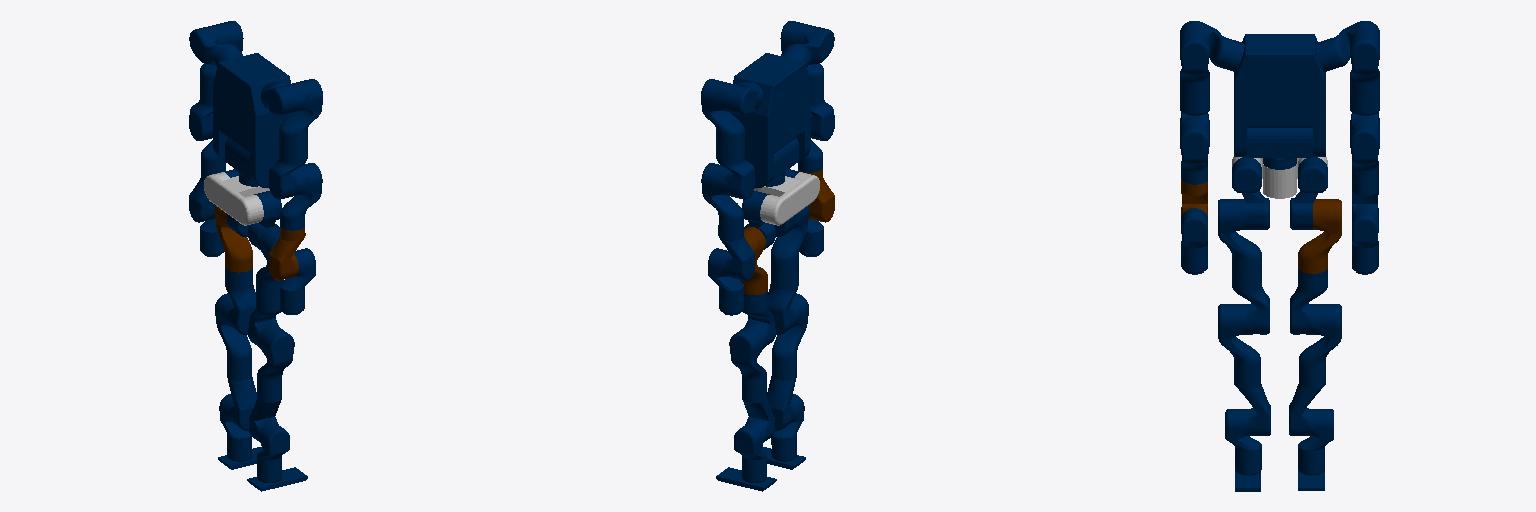
--- What the picture shows (computed from the rendered views, not written in the file) ---
3 views of the same robot in one strip: view 1: azimuth 30°, elevation 25°; view 2: azimuth 150°, elevation 25°; view 3: azimuth 270°, elevation 25° (orthographic).
Robot: HRO-c2-v1 — 31 links, 30 joints (30 revolute); root link torso_base_link; default pose: every joint at zero.
Visible links, largest first — view 1: torso_upper_link, torso_base_link, right_leg_link_4_5, right_arm_link_2_3, right_arm_link_4_5, left_leg_link_3_4, right_arm_link_3_4, left_leg_link_4_5, left_leg_link_5_6, left_leg_link_2_3, right_arm_link_5_6, left_arm_link_1_2 (+14 smaller); view 2: torso_upper_link, torso_base_link, left_leg_link_4_5, left_arm_link_2_3, left_arm_link_4_5, right_leg_link_3_4, left_arm_link_3_4, right_leg_link_4_5, right_leg_link_5_6, right_leg_link_2_3, left_arm_link_5_6, right_arm_link_1_2 (+14 smaller); view 3: torso_upper_link, torso_mid_link, right_leg_link_2_3, left_leg_link_2_3, right_leg_link_4_5, left_leg_link_4_5, left_arm_link_2_3, right_arm_link_2_3, left_leg_link_1_2, right_leg_link_1_2, left_arm_link_4_5, right_arm_link_4_5 (+17 smaller).
Link boxes in pixels (<box>): torso_upper_link: <box>213,53,293,187</box>; torso_base_link: <box>204,172,269,225</box>; right_leg_link_4_5: <box>257,324,294,391</box>; right_arm_link_2_3: <box>279,79,322,146</box>; right_arm_link_4_5: <box>280,163,322,230</box>; left_leg_link_3_4: <box>225,268,255,335</box>; right_arm_link_3_4: <box>268,141,307,199</box>; left_leg_link_4_5: <box>215,293,251,369</box>; left_leg_link_5_6: <box>227,366,256,430</box>; left_leg_link_2_3: <box>214,205,252,272</box>; right_arm_link_5_6: <box>269,227,305,280</box>; left_arm_link_1_2: <box>189,26,242,66</box>; torso_upper_link: <box>730,53,810,187</box>; torso_base_link: <box>754,172,819,225</box>; left_leg_link_4_5: <box>729,325,766,391</box>; left_arm_link_2_3: <box>701,79,744,147</box>; left_arm_link_4_5: <box>701,163,743,230</box>; right_leg_link_3_4: <box>768,268,798,335</box>; left_arm_link_3_4: <box>716,142,755,199</box>; right_leg_link_4_5: <box>772,293,808,369</box>; right_leg_link_5_6: <box>767,366,796,430</box>; right_leg_link_2_3: <box>771,205,809,271</box>; left_arm_link_5_6: <box>718,225,754,280</box>; right_arm_link_1_2: <box>781,26,834,66</box>; torso_upper_link: <box>1234,34,1325,156</box>; torso_mid_link: <box>1247,128,1312,169</box>; right_leg_link_2_3: <box>1218,199,1261,273</box>; left_leg_link_2_3: <box>1298,199,1341,273</box>; right_leg_link_4_5: <box>1218,304,1260,377</box>; left_leg_link_4_5: <box>1299,304,1341,377</box>; left_arm_link_2_3: <box>1350,29,1379,95</box>; right_arm_link_2_3: <box>1180,29,1209,95</box>; left_leg_link_1_2: <box>1290,157,1327,229</box>; right_leg_link_1_2: <box>1232,157,1269,229</box>; left_arm_link_4_5: <box>1350,119,1379,184</box>; right_arm_link_4_5: <box>1180,119,1209,184</box>.
Size in the robot's own frame: 0.2301 by 0.6078 by 1.49 metres.
31 mesh visuals loaded from 31 distinct referenced files (31 binary STL).

robot.urdf — HRO-c2-v1:
<?xml version="1.0" encoding="utf-8"?>
<!-- This URDF was automatically created by SolidWorks to URDF Exporter! Originally created by Stephen Brawner ([email redacted]) 
     Commit Version:   Build Version: 1.6.9172.22854
     For more information, please see http://wiki.ros.org/sw_urdf_exporter -->
<robot
  name="HRO-c2-v1">
  <link
    name="torso_base_link">
    <inertial>
      <origin
        xyz="-0.0470176847468226 2.49813725718533E-18 -0.0489556288399936"
        rpy="0 0 0" />
      <mass
        value="2.77762716357921" />
      <inertia
        ixx="0.00680573131801171"
        ixy="-1.09655201243339E-18"
        ixz="0.000377212178676998"
        iyy="0.0044128931197468"
        iyz="9.63312125049071E-20"
        izz="0.007730843281856" />
    </inertial>
    <visual>
      <origin
        xyz="0 0 0"
        rpy="0 0 0" />
      <geometry>
        <mesh
          filename="package://HRO-c2-v1/meshes/torso_base_link.STL" />
      </geometry>
      <material
        name="">
        <color
          rgba="0.752941176470588 0.752941176470588 0.752941176470588 1" />
      </material>
    </visual>
    <collision>
      <origin
        xyz="0 0 0"
        rpy="0 0 0" />
      <geometry>
        <mesh
          filename="package://HRO-c2-v1/meshes/torso_base_link.STL" />
      </geometry>
    </collision>
  </link>
  <link
    name="torso_mid_link">
    <inertial>
      <origin
        xyz="-0.00156357939065214 0.00715796001621209 0.0658836105821333"
        rpy="0 0 0" />
      <mass
        value="1.31668834620413" />
      <inertia
        ixx="0.00267382913699783"
        ixy="-1.5450639337885E-08"
        ixz="3.09538253606686E-06"
        iyy="0.0020105000349069"
        iyz="3.47184836178839E-10"
        izz="0.0030443100233419" />
    </inertial>
    <visual>
      <origin
        xyz="0 0 0"
        rpy="0 0 0" />
      <geometry>
        <mesh
          filename="package://HRO-c2-v1/meshes/torso_mid_link.STL" />
      </geometry>
      <material
        name="">
        <color
          rgba="0 0.180392156862745 0.352941176470588 1" />
      </material>
    </visual>
    <collision>
      <origin
        xyz="0 0 0"
        rpy="0 0 0" />
      <geometry>
        <mesh
          filename="package://HRO-c2-v1/meshes/torso_mid_link.STL" />
      </geometry>
    </collision>
  </link>
  <joint
    name="torso_pan_joint"
    type="revolute">
    <origin
      xyz="0 0 0"
      rpy="0 0 0" />
    <parent
      link="torso_base_link" />
    <child
      link="torso_mid_link" />
    <axis
      xyz="0 0 1" />
    <limit
      lower="0"
      upper="0"
      effort="0"
      velocity="0" />
  </joint>
  <link
    name="torso_upper_link">
    <inertial>
      <origin
        xyz="3.03576608295941E-18 0.149492492845789 0.000746189436203436"
        rpy="0 0 0" />
      <mass
        value="12.6305432689078" />
      <inertia
        ixx="0.175502383244543"
        ixy="3.20078326002922E-18"
        ixz="-7.05998652814009E-19"
        iyy="0.09988086580408"
        iyz="2.81443637384186E-17"
        izz="0.118925769103356" />
    </inertial>
    <visual>
      <origin
        xyz="0 0 0"
        rpy="0 0 0" />
      <geometry>
        <mesh
          filename="package://HRO-c2-v1/meshes/torso_upper_link.STL" />
      </geometry>
      <material
        name="">
        <color
          rgba="0 0.180392156862745 0.352941176470588 1" />
      </material>
    </visual>
    <collision>
      <origin
        xyz="0 0 0"
        rpy="0 0 0" />
      <geometry>
        <mesh
          filename="package://HRO-c2-v1/meshes/torso_upper_link.STL" />
      </geometry>
    </collision>
  </link>
  <joint
    name="torso_tilt_joint"
    type="revolute">
    <origin
      xyz="-0.002 0 0.09"
      rpy="1.5708 0 0" />
    <parent
      link="torso_mid_link" />
    <child
      link="torso_upper_link" />
    <axis
      xyz="0 0 1" />
    <limit
      lower="0"
      upper="0"
      effort="0"
      velocity="0" />
  </joint>
  <link
    name="right_arm_link_1_2">
    <inertial>
      <origin
        xyz="6.66228826226023E-05 0.00972182902507468 0.111510647715915"
        rpy="0 0 0" />
      <mass
        value="0.895979439094536" />
      <inertia
        ixx="0.00172631943125684"
        ixy="-3.09551137722688E-07"
        ixz="-6.82522919895056E-07"
        iyy="0.00167498130035058"
        iyz="-0.000284594014603556"
        izz="0.00118988088668159" />
    </inertial>
    <visual>
      <origin
        xyz="0 0 0"
        rpy="0 0 0" />
      <geometry>
        <mesh
          filename="package://HRO-c2-v1/meshes/right_arm_link_1_2.STL" />
      </geometry>
      <material
        name="">
        <color
          rgba="0 0.180392156862745 0.352941176470588 1" />
      </material>
    </visual>
    <collision>
      <origin
        xyz="0 0 0"
        rpy="0 0 0" />
      <geometry>
        <mesh
          filename="package://HRO-c2-v1/meshes/right_arm_link_1_2.STL" />
      </geometry>
    </collision>
  </link>
  <joint
    name="right_arm_joint_1"
    type="revolute">
    <origin
      xyz="0 0.25913 0.12256"
      rpy="0 0.34907 1.5708" />
    <parent
      link="torso_upper_link" />
    <child
      link="right_arm_link_1_2" />
    <axis
      xyz="0 0 1" />
    <limit
      lower="0"
      upper="0"
      effort="0"
      velocity="0" />
  </joint>
  <link
    name="right_arm_link_2_3">
    <inertial>
      <origin
        xyz="-6.90115387870227E-05 0.094105278868877 0.0187134412332429"
        rpy="0 0 0" />
      <mass
        value="0.939060504303801" />
      <inertia
        ixx="0.00214875863471669"
        ixy="9.44036791996364E-07"
        ixz="-4.60285255478099E-07"
        iyy="0.0013044349407048"
        iyz="0.000397355965561895"
        izz="0.00205972072677408" />
    </inertial>
    <visual>
      <origin
        xyz="0 0 0"
        rpy="0 0 0" />
      <geometry>
        <mesh
          filename="package://HRO-c2-v1/meshes/right_arm_link_2_3.STL" />
      </geometry>
      <material
        name="">
        <color
          rgba="0 0.180392156862745 0.352941176470588 1" />
      </material>
    </visual>
    <collision>
      <origin
        xyz="0 0 0"
        rpy="0 0 0" />
      <geometry>
        <mesh
          filename="package://HRO-c2-v1/meshes/right_arm_link_2_3.STL" />
      </geometry>
    </collision>
  </link>
  <joint
    name="right_arm_joint_2"
    type="revolute">
    <origin
      xyz="2.2306018498619E-05 0.001 0.143973500694112"
      rpy="-1.57079632679491 -1.22173047639603 -3.14159265358979" />
    <parent
      link="right_arm_link_1_2" />
    <child
      link="right_arm_link_2_3" />
    <axis
      xyz="0 0 -1" />
    <limit
      lower="0"
      upper="0"
      effort="0"
      velocity="0" />
  </joint>
  <link
    name="right_arm_link_3_4">
    <inertial>
      <origin
        xyz="6.65707262159088E-05 0.00972352162770297 0.111509451426319"
        rpy="0 0 0" />
      <mass
        value="0.896019898350293" />
      <inertia
        ixx="0.00172628185309757"
        ixy="-3.04577399126175E-07"
        ixz="-6.32019869519424E-07"
        iyy="0.00167501327849442"
        iyz="-0.000284584761191662"
        izz="0.00118994977603313" />
    </inertial>
    <visual>
      <origin
        xyz="0 0 0"
        rpy="0 0 0" />
      <geometry>
        <mesh
          filename="package://HRO-c2-v1/meshes/right_arm_link_3_4.STL" />
      </geometry>
      <material
        name="">
        <color
          rgba="0 0.180392156862745 0.352941176470588 1" />
      </material>
    </visual>
    <collision>
      <origin
        xyz="0 0 0"
        rpy="0 0 0" />
      <geometry>
        <mesh
          filename="package://HRO-c2-v1/meshes/right_arm_link_3_4.STL" />
      </geometry>
    </collision>
  </link>
  <joint
    name="right_arm_joint_3"
    type="revolute">
    <origin
      xyz="-0.000101671704491268 0.155917928242505 -0.00100000000000001"
      rpy="-1.5707963267949 0 0" />
    <parent
      link="right_arm_link_2_3" />
    <child
      link="right_arm_link_3_4" />
    <axis
      xyz="0 0 1" />
    <limit
      lower="0"
      upper="0"
      effort="0"
      velocity="0" />
  </joint>
  <link
    name="right_arm_link_4_5">
    <inertial>
      <origin
        xyz="-5.49865908335279E-05 0.0775910844587119 0.0234807779443568"
        rpy="0 0 0" />
      <mass
        value="0.754320266549122" />
      <inertia
        ixx="0.00179236507674986"
        ixy="6.90133957738273E-07"
        ixz="-3.21555583874682E-07"
        iyy="0.000991242562896005"
        iyz="0.000365224224172024"
        izz="0.00172043416937765" />
    </inertial>
    <visual>
      <origin
        xyz="0 0 0"
        rpy="0 0 0" />
      <geometry>
        <mesh
          filename="package://HRO-c2-v1/meshes/right_arm_link_4_5.STL" />
      </geometry>
      <material
        name="">
        <color
          rgba="0 0.180392156862745 0.352941176470588 1" />
      </material>
    </visual>
    <collision>
      <origin
        xyz="0 0 0"
        rpy="0 0 0" />
      <geometry>
        <mesh
          filename="package://HRO-c2-v1/meshes/right_arm_link_4_5.STL" />
      </geometry>
    </collision>
  </link>
  <joint
    name="right_arm_joint_4"
    type="revolute">
    <origin
      xyz="0.000101671704491213 0.001 0.144082071757494"
      rpy="1.5707963267949 0 0" />
    <parent
      link="right_arm_link_3_4" />
    <child
      link="right_arm_link_4_5" />
    <axis
      xyz="0 0 -1" />
    <limit
      lower="0"
      upper="0"
      effort="0"
      velocity="0" />
  </joint>
  <link
    name="right_arm_link_5_6">
    <inertial>
      <origin
        xyz="4.81902417087121E-05 0.0120985252809178 0.0723353962405098"
        rpy="0 0 0" />
      <mass
        value="0.83041067582962" />
      <inertia
        ixx="0.00131924081441891"
        ixy="-2.47395702841062E-07"
        ixz="-3.72363128380557E-07"
        iyy="0.0013094675952543"
        iyz="-0.00021592222931928"
        izz="0.000848367166264488" />
    </inertial>
    <visual>
      <origin
        xyz="0 0 0"
        rpy="0 0 0" />
      <geometry>
        <mesh
          filename="package://HRO-c2-v1/meshes/right_arm_link_5_6.STL" />
      </geometry>
      <material
        name="">
        <color
          rgba="0.352941176470588 0.176470588235294 0 1" />
      </material>
    </visual>
    <collision>
      <origin
        xyz="0 0 0"
        rpy="0 0 0" />
      <geometry>
        <mesh
          filename="package://HRO-c2-v1/meshes/right_arm_link_5_6.STL" />
      </geometry>
    </collision>
  </link>
  <joint
    name="right_arm_joint_5"
    type="revolute">
    <origin
      xyz="-0.000101671704491324 0.155917928242505 -0.00100000000000001"
      rpy="-1.5707963267949 0 0" />
    <parent
      link="right_arm_link_4_5" />
    <child
      link="right_arm_link_5_6" />
    <axis
      xyz="0 0 1" />
    <limit
      lower="0"
      upper="0"
      effort="0"
      velocity="0" />
  </joint>
  <link
    name="right_arm_link_6_7">
    <inertial>
      <origin
        xyz="5.55440967286436E-05 -0.0645895980066019 0.0130664227994459"
        rpy="0 0 0" />
      <mass
        value="0.60300944764139" />
      <inertia
        ixx="0.000896383140689381"
        ixy="4.10066188280186E-07"
        ixz="1.93351371226553E-07"
        iyy="0.0006419209613309"
        iyz="-0.000161415996999139"
        izz="0.000893939105049774" />
    </inertial>
    <visual>
      <origin
        xyz="0 0 0"
        rpy="0 0 0" />
      <geometry>
        <mesh
          filename="package://HRO-c2-v1/meshes/right_arm_link_6_7.STL" />
      </geometry>
      <material
        name="">
        <color
          rgba="0 0.180392156862745 0.352941176470588 1" />
      </material>
    </visual>
    <collision>
      <origin
        xyz="0 0 0"
        rpy="0 0 0" />
      <geometry>
        <mesh
          filename="package://HRO-c2-v1/meshes/right_arm_link_6_7.STL" />
      </geometry>
    </collision>
  </link>
  <joint
    name="right_arm_joint_6"
    type="revolute">
    <origin
      xyz="8.89857532566651E-05 0.00100000000000001 0.139053221189858"
      rpy="-1.5707963267949 0 -3.14159265358979" />
    <parent
      link="right_arm_link_5_6" />
    <child
      link="right_arm_link_6_7" />
    <axis
      xyz="0 0 -1" />
    <limit
      lower="0"
      upper="0"
      effort="0"
      velocity="0" />
  </joint>
  <link
    name="right_arm_link_7_flange">
    <inertial>
      <origin
        xyz="3.33066907387547E-16 2.67147415300428E-16 0.0301250008394433"
        rpy="0 0 0" />
      <mass
        value="0.177051025330653" />
      <inertia
        ixx="0.000118796552031385"
        ixy="1.56481807981463E-34"
        ixz="-3.17734555563843E-20"
        iyy="0.000118796552031385"
        iyz="8.02581233020028E-21"
        izz="0.000183558435030556" />
    </inertial>
    <visual>
      <origin
        xyz="0 0 0"
        rpy="0 0 0" />
      <geometry>
        <mesh
          filename="package://HRO-c2-v1/meshes/right_arm_link_7_flange.STL" />
      </geometry>
      <material
        name="">
        <color
          rgba="0 0.180392156862745 0.352941176470588 1" />
      </material>
    </visual>
    <collision>
      <origin
        xyz="0 0 0"
        rpy="0 0 0" />
      <geometry>
        <mesh
          filename="package://HRO-c2-v1/meshes/right_arm_link_7_flange.STL" />
      </geometry>
    </collision>
  </link>
  <joint
    name="right_arm_joint_7"
    type="revolute">
    <origin
      xyz="8.89857532564986E-05 -0.114946778810142 -0.00100000000000156"
      rpy="-1.5707963267949 0 3.14159265358979" />
    <parent
      link="right_arm_link_6_7" />
    <child
      link="right_arm_link_7_flange" />
    <axis
      xyz="0 0 1" />
    <limit
      lower="0"
      upper="0"
      effort="0"
      velocity="0" />
  </joint>
  <link
    name="left_arm_link_1_2">
    <inertial>
      <origin
        xyz="6.68056881808488E-05 0.00972202733370394 0.11151042462186"
        rpy="0 0 0" />
      <mass
        value="0.89599592342446" />
      <inertia
        ixx="0.00172626724739608"
        ixy="-3.14820393570986E-07"
        ixz="-6.26655379808464E-07"
        iyy="0.00167498985667316"
        iyz="-0.000284592291274682"
        izz="0.00118993521990925" />
    </inertial>
    <visual>
      <origin
        xyz="0 0 0"
        rpy="0 0 0" />
      <geometry>
        <mesh
          filename="package://HRO-c2-v1/meshes/left_arm_link_1_2.STL" />
      </geometry>
      <material
        name="">
        <color
          rgba="0 0.180392156862745 0.352941176470588 1" />
      </material>
    </visual>
    <collision>
      <origin
        xyz="0 0 0"
        rpy="0 0 0" />
      <geometry>
        <mesh
          filename="package://HRO-c2-v1/meshes/left_arm_link_1_2.STL" />
      </geometry>
    </collision>
  </link>
  <joint
    name="left_arm_joint_1"
    type="revolute">
    <origin
      xyz="0 0.259129173662444 -0.122556972690391"
      rpy="-3.14159265358979 0.349065850398867 -1.5707963267949" />
    <parent
      link="torso_upper_link" />
    <child
      link="left_arm_link_1_2" />
    <axis
      xyz="0 0 1" />
    <limit
      lower="0"
      upper="0"
      effort="0"
      velocity="0" />
  </joint>
  <link
    name="left_arm_link_2_3">
    <inertial>
      <origin
        xyz="-6.90426710535652E-05 0.0941053457333715 0.0187133302565228"
        rpy="0 0 0" />
      <mass
        value="0.939058631694167" />
      <inertia
        ixx="0.00214876243508114"
        ixy="9.44564681761921E-07"
        ixz="-4.61703336688338E-07"
        iyy="0.00130444188982548"
        iyz="0.000397356533260076"
        izz="0.00205972503663058" />
    </inertial>
    <visual>
      <origin
        xyz="0 0 0"
        rpy="0 0 0" />
      <geometry>
        <mesh
          filename="package://HRO-c2-v1/meshes/left_arm_link_2_3.STL" />
      </geometry>
      <material
        name="">
        <color
          rgba="0 0.180392156862745 0.352941176470588 1" />
      </material>
    </visual>
    <collision>
      <origin
        xyz="0 0 0"
        rpy="0 0 0" />
      <geometry>
        <mesh
          filename="package://HRO-c2-v1/meshes/left_arm_link_2_3.STL" />
      </geometry>
    </collision>
  </link>
  <joint
    name="left_arm_joint_2"
    type="revolute">
    <origin
      xyz="0.000176550468282966 0.00100000000000001 0.143970358917364"
      rpy="-1.5707963267949 1.22173047639603 3.14159265358979" />
    <parent
      link="left_arm_link_1_2" />
    <child
      link="left_arm_link_2_3" />
    <axis
      xyz="0 0 1" />
    <limit
      lower="0"
      upper="0"
      effort="0"
      velocity="0" />
  </joint>
  <link
    name="left_arm_link_3_4">
    <inertial>
      <origin
        xyz="6.6611577816178E-05 0.00972343067585797 0.11150949773672"
        rpy="0 0 0" />
      <mass
        value="0.896018108797937" />
      <inertia
        ixx="0.00172628223662743"
        ixy="-3.06077863204356E-07"
        ixz="-6.31257988057324E-07"
        iyy="0.00167501444901381"
        iyz="-0.000284584988629101"
        izz="0.00118995074389738" />
    </inertial>
    <visual>
      <origin
        xyz="0 0 0"
        rpy="0 0 0" />
      <geometry>
        <mesh
          filename="package://HRO-c2-v1/meshes/left_arm_link_3_4.STL" />
      </geometry>
      <material
        name="">
        <color
          rgba="0 0.180392156862745 0.352941176470588 1" />
      </material>
    </visual>
    <collision>
      <origin
        xyz="0 0 0"
        rpy="0 0 0" />
      <geometry>
        <mesh
          filename="package://HRO-c2-v1/meshes/left_arm_link_3_4.STL" />
      </geometry>
    </collision>
  </link>
  <joint
    name="left_arm_joint_3"
    type="revolute">
    <origin
      xyz="-0.000101671704491157 0.155917928242505 -0.000999999999999994"
      rpy="-1.5707963267949 0 0" />
    <parent
      link="left_arm_link_2_3" />
    <child
      link="left_arm_link_3_4" />
    <axis
      xyz="0 0 1" />
    <limit
      lower="0"
      upper="0"
      effort="0"
      velocity="0" />
  </joint>
  <link
    name="left_arm_link_4_5">
    <inertial>
      <origin
        xyz="-5.49865813643247E-05 0.0775910844580704 0.0234807779439432"
        rpy="0 0 0" />
      <mass
        value="0.754320266598631" />
      <inertia
        ixx="0.00179236507671689"
        ixy="6.90133910317577E-07"
        ixz="-3.21555655297684E-07"
        iyy="0.000991242563053442"
        iyz="0.000365224224174344"
        izz="0.00172043416957939" />
    </inertial>
    <visual>
      <origin
        xyz="0 0 0"
        rpy="0 0 0" />
      <geometry>
        <mesh
          filename="package://HRO-c2-v1/meshes/left_arm_link_4_5.STL" />
      </geometry>
      <material
        name="">
        <color
          rgba="0 0.180392156862745 0.352941176470588 1" />
      </material>
    </visual>
    <collision>
      <origin
        xyz="0 0 0"
        rpy="0 0 0" />
      <geometry>
        <mesh
          filename="package://HRO-c2-v1/meshes/left_arm_link_4_5.STL" />
      </geometry>
    </collision>
  </link>
  <joint
    name="left_arm_joint_4"
    type="revolute">
    <origin
      xyz="0.000101671704490991 0.001 0.144082071757494"
      rpy="1.5707963267949 0 0" />
    <parent
      link="left_arm_link_3_4" />
    <child
      link="left_arm_link_4_5" />
    <axis
      xyz="0 0 1" />
    <limit
      lower="0"
      upper="0"
      effort="0"
      velocity="0" />
  </joint>
  <link
    name="left_arm_link_5_6">
    <inertial>
      <origin
        xyz="6.35484435694278E-05 0.0159543182163423 0.103902471984837"
        rpy="0 0 0" />
      <mass
        value="0.629719453932973" />
      <inertia
        ixx="0.0011592397377618"
        ixy="-2.47395702835245E-07"
        ixz="-3.72363128329068E-07"
        iyy="0.00114946651859718"
        iyz="-0.000215922229319279"
        izz="0.000695741492012087" />
    </inertial>
    <visual>
      <origin
        xyz="0 0 0"
        rpy="0 0 0" />
      <geometry>
        <mesh
          filename="package://HRO-c2-v1/meshes/left_arm_link_5_6.STL" />
      </geometry>
      <material
        name="">
        <color
          rgba="0 0.180392156862745 0.352941176470588 1" />
      </material>
    </visual>
    <collision>
      <origin
        xyz="0 0 0"
        rpy="0 0 0" />
      <geometry>
        <mesh
          filename="package://HRO-c2-v1/meshes/left_arm_link_5_6.STL" />
      </geometry>
    </collision>
  </link>
  <joint
    name="left_arm_joint_5"
    type="revolute">
    <origin
      xyz="-0.000101671704491157 0.155917928242505 -0.001"
      rpy="-1.5707963267949 0 0" />
    <parent
      link="left_arm_link_4_5" />
    <child
      link="left_arm_link_5_6" />
    <axis
      xyz="0 0 1" />
    <limit
      lower="0"
      upper="0"
      effort="0"
      velocity="0" />
  </joint>
  <link
    name="left_arm_link_6_7">
    <inertial>
      <origin
        xyz="-5.55440967294207E-05 0.064589598006602 0.0130664227994461"
        rpy="0 0 0" />
      <mass
        value="0.603009447641394" />
      <inertia
        ixx="0.000896383140689378"
        ixy="4.10066188275672E-07"
        ixz="-1.9335137122609E-07"
        iyy="0.0006419209613309"
        iyz="0.000161415996999138"
        izz="0.000893939105049779" />
    </inertial>
    <visual>
      <origin
        xyz="0 0 0"
        rpy="0 0 0" />
      <geometry>
        <mesh
          filename="package://HRO-c2-v1/meshes/left_arm_link_6_7.STL" />
      </geometry>
      <material
        name="">
        <color
          rgba="0 0.180392156862745 0.352941176470588 1" />
      </material>
    </visual>
    <collision>
      <origin
        xyz="0 0 0"
        rpy="0 0 0" />
      <geometry>
        <mesh
          filename="package://HRO-c2-v1/meshes/left_arm_link_6_7.STL" />
      </geometry>
    </collision>
  </link>
  <joint
    name="left_arm_joint_6"
    type="revolute">
    <origin
      xyz="8.89857532566651E-05 0.00100000000000001 0.139053221189858"
      rpy="1.5707963267949 0 0" />
    <parent
      link="left_arm_link_5_6" />
    <child
      link="left_arm_link_6_7" />
    <axis
      xyz="0 0 1" />
    <limit
      lower="0"
      upper="0"
      effort="0"
      velocity="0" />
  </joint>
  <link
    name="left_arm_link_7_flange">
    <inertial>
      <origin
        xyz="-5.55111512312578E-17 -2.25514051876985E-17 0.0301250008394434"
        rpy="0 0 0" />
      <mass
        value="0.177051025330653" />
      <inertia
        ixx="0.000118796552031385"
        ixy="-5.68939265797987E-36"
        ixz="1.95913932896201E-20"
        iyy="0.000118796552031385"
        iyz="-1.11534853854529E-21"
        izz="0.000183558435030557" />
    </inertial>
    <visual>
      <origin
        xyz="0 0 0"
        rpy="0 0 0" />
      <geometry>
        <mesh
          filename="package://HRO-c2-v1/meshes/left_arm_link_7_flange.STL" />
      </geometry>
      <material
        name="">
        <color
          rgba="0 0.180392156862745 0.352941176470588 1" />
      </material>
    </visual>
    <collision>
      <origin
        xyz="0 0 0"
        rpy="0 0 0" />
      <geometry>
        <mesh
          filename="package://HRO-c2-v1/meshes/left_arm_link_7_flange.STL" />
      </geometry>
    </collision>
  </link>
  <joint
    name="left_arm_joint_7"
    type="revolute">
    <origin
      xyz="-8.89857532564986E-05 0.114946778810142 -0.000999999999999996"
      rpy="-1.5707963267949 0 0" />
    <parent
      link="left_arm_link_6_7" />
    <child
      link="left_arm_link_7_flange" />
    <axis
      xyz="0 0 1" />
    <limit
      lower="0"
      upper="0"
      effort="0"
      velocity="0" />
  </joint>
  <link
    name="right_leg_link_1_2">
    <inertial>
      <origin
        xyz="0.0187737687333483 -0.0799753208695129 0.0291053393784098"
        rpy="0 0 0" />
      <mass
        value="1.91641217571984" />
      <inertia
        ixx="0.00536305220858553"
        ixy="0.0015254699824329"
        ixz="-1.56831294556851E-05"
        iyy="0.00241943278094351"
        iyz="-5.84573412750941E-05"
        izz="0.00592596030594809" />
    </inertial>
    <visual>
      <origin
        xyz="0 0 0"
        rpy="0 0 0" />
      <geometry>
        <mesh
          filename="package://HRO-c2-v1/meshes/right_leg_link_1_2.STL" />
      </geometry>
      <material
        name="">
        <color
          rgba="0 0.180392156862745 0.352941176470588 1" />
      </material>
    </visual>
    <collision>
      <origin
        xyz="0 0 0"
        rpy="0 0 0" />
      <geometry>
        <mesh
          filename="package://HRO-c2-v1/meshes/right_leg_link_1_2.STL" />
      </geometry>
    </collision>
  </link>
  <joint
    name="right_leg_joint_1"
    type="revolute">
    <origin
      xyz="-0.03 -0.1 -0.05"
      rpy="1.5708 0 1.5708" />
    <parent
      link="torso_base_link" />
    <child
      link="right_leg_link_1_2" />
    <axis
      xyz="0 0 1" />
    <limit
      lower="0"
      upper="0"
      effort="0"
      velocity="0" />
  </joint>
  <link
    name="right_leg_link_2_3">
    <inertial>
      <origin
        xyz="6.31217927510246E-05 -0.106217157949777 0.019012200980757"
        rpy="0 0 0" />
      <mass
        value="0.960297020805429" />
      <inertia
        ixx="0.00253388889667181"
        ixy="9.72671733248472E-07"
        ixz="3.95401438652672E-07"
        iyy="0.00134969836656703"
        iyz="-0.000477220247538095"
        izz="0.00244163494161061" />
    </inertial>
    <visual>
      <origin
        xyz="0 0 0"
        rpy="0 0 0" />
      <geometry>
        <mesh
          filename="package://HRO-c2-v1/meshes/right_leg_link_2_3.STL" />
      </geometry>
      <material
        name="">
        <color
          rgba="0 0.180392156862745 0.352941176470588 1" />
      </material>
    </visual>
    <collision>
      <origin
        xyz="0 0 0"
        rpy="0 0 0" />
      <geometry>
        <mesh
          filename="package://HRO-c2-v1/meshes/right_leg_link_2_3.STL" />
      </geometry>
    </collision>
  </link>
  <joint
    name="right_leg_joint_2"
    type="revolute">
    <origin
      xyz="-0.000999999999999959 -0.124082071757494 0.029998328295509"
      rpy="0 -1.5707963267949 0" />
    <parent
      link="right_leg_link_1_2" />
    <child
      link="right_leg_link_2_3" />
    <axis
      xyz="0 0 1" />
    <limit
      lower="0"
      upper="0"
      effort="0"
      velocity="0" />
  </joint>
  <link
    name="right_leg_link_3_4">
    <inertial>
      <origin
        xyz="-6.98893011698929E-05 -0.01032115118302 0.131072309778655"
        rpy="0 0 0" />
      <mass
        value="0.928188916171351" />
      <inertia
        ixx="0.0022222868624958"
        ixy="-3.10931297585512E-07"
        ixz="1.19667246604344E-06"
        iyy="0.00217452041555269"
        iyz="0.00037633875802305"
        izz="0.00124893833995951" />
    </inertial>
    <visual>
      <origin
        xyz="0 0 0"
        rpy="0 0 0" />
      <geometry>
        <mesh
          filename="package://HRO-c2-v1/meshes/right_leg_link_3_4.STL" />
      </geometry>
      <material
        name="">
        <color
          rgba="0 0.180392156862745 0.352941176470588 1" />
      </material>
    </visual>
    <collision>
      <origin
        xyz="0 0 0"
        rpy="0 0 0" />
      <geometry>
        <mesh
          filename="package://HRO-c2-v1/meshes/right_leg_link_3_4.STL" />
      </geometry>
    </collision>
  </link>
  <joint
    name="right_leg_joint_3"
    type="revolute">
    <origin
      xyz="0.000101671704490934 -0.175917928242506 -0.001"
      rpy="1.5707963267949 0 0" />
    <parent
      link="right_leg_link_2_3" />
    <child
      link="right_leg_link_3_4" />
    <axis
      xyz="0 0 1" />
    <limit
      lower="0"
      upper="0"
      effort="0"
      velocity="0" />
  </joint>
  <link
    name="right_leg_link_4_5">
    <inertial>
      <origin
        xyz="5.19678802702193E-05 -0.0882835437975573 0.0237427814794535"
        rpy="0 0 0" />
      <mass
        value="0.774400602834919" />
      <inertia
        ixx="0.00215315436642249"
        ixy="8.73944511776648E-07"
        ixz="3.97802806915571E-07"
        iyy="0.00102989977137454"
        iyz="-0.000439833002381071"
        izz="0.00207720146014271" />
    </inertial>
    <visual>
      <origin
        xyz="0 0 0"
        rpy="0 0 0" />
      <geometry>
        <mesh
          filename="package://HRO-c2-v1/meshes/right_leg_link_4_5.STL" />
      </geometry>
      <material
        name="">
        <color
          rgba="0 0.180392156862745 0.352941176470588 1" />
      </material>
    </visual>
    <collision>
      <origin
        xyz="0 0 0"
        rpy="0 0 0" />
      <geometry>
        <mesh
          filename="package://HRO-c2-v1/meshes/right_leg_link_4_5.STL" />
      </geometry>
    </collision>
  </link>
  <joint
    name="right_leg_joint_4"
    type="revolute">
    <origin
      xyz="-0.000101671704490671 -0.00100000000000001 0.174082071757495"
      rpy="-1.5707963267949 0 0" />
    <parent
      link="right_leg_link_3_4" />
    <child
      link="right_leg_link_4_5" />
    <axis
      xyz="0 0 1" />
    <limit
      lower="0"
      upper="0"
      effort="0"
      velocity="0" />
  </joint>
  <link
    name="right_leg_link_5_6">
    <inertial>
      <origin
        xyz="-6.10693669290388E-05 -0.0164428439695284 0.123012703864981"
        rpy="0 0 0" />
      <mass
        value="0.662392371788132" />
      <inertia
        ixx="0.00157330538844869"
        ixy="-2.42500581153194E-07"
        ixz="3.08107599004869E-07"
        iyy="0.00156804432194175"
        iyz="0.00028774505215888"
        izz="0.000745824849757463" />
    </inertial>
    <visual>
      <origin
        xyz="0 0 0"
        rpy="0 0 0" />
      <geometry>
        <mesh
          filename="package://HRO-c2-v1/meshes/right_leg_link_5_6.STL" />
      </geometry>
      <material
        name="">
        <color
          rgba="0 0.180392156862745 0.352941176470588 1" />
      </material>
    </visual>
    <collision>
      <origin
        xyz="0 0 0"
        rpy="0 0 0" />
      <geometry>
        <mesh
          filename="package://HRO-c2-v1/meshes/right_leg_link_5_6.STL" />
      </geometry>
    </collision>
  </link>
  <joint
    name="right_leg_joint_5"
    type="revolute">
    <origin
      xyz="0.000101671704490709 -0.175917928242505 -0.000999999999999987"
      rpy="1.5707963267949 0 0" />
    <parent
      link="right_leg_link_4_5" />
    <child
      link="right_leg_link_5_6" />
    <axis
      xyz="0 0 1" />
    <limit
      lower="0"
      upper="0"
      effort="0"
      velocity="0" />
  </joint>
  <link
    name="right_leg_link_6_7">
    <inertial>
      <origin
        xyz="5.55440967294612E-05 -0.0645895980066015 0.0130664227994463"
        rpy="0 0 0" />
      <mass
        value="0.603009447641397" />
      <inertia
        ixx="0.000896383140689379"
        ixy="4.10066188287541E-07"
        ixz="1.93351371224935E-07"
        iyy="0.000641920961330903"
        iyz="-0.000161415996999139"
        izz="0.000893939105049785" />
    </inertial>
    <visual>
      <origin
        xyz="0 0 0"
        rpy="0 0 0" />
      <geometry>
        <mesh
          filename="package://HRO-c2-v1/meshes/right_leg_link_6_7.STL" />
      </geometry>
      <material
        name="">
        <color
          rgba="0 0.180392156862745 0.352941176470588 1" />
      </material>
    </visual>
    <collision>
      <origin
        xyz="0 0 0"
        rpy="0 0 0" />
      <geometry>
        <mesh
          filename="package://HRO-c2-v1/meshes/right_leg_link_6_7.STL" />
      </geometry>
    </collision>
  </link>
  <joint
    name="right_leg_joint_6"
    type="revolute">
    <origin
      xyz="-8.89857532565484E-05 -0.00100000000000001 0.169053221189858"
      rpy="-1.5707963267949 0 0" />
    <parent
      link="right_leg_link_5_6" />
    <child
      link="right_leg_link_6_7" />
    <axis
      xyz="0 0 1" />
    <limit
      lower="0"
      upper="0"
      effort="0"
      velocity="0" />
  </joint>
  <link
    name="right_foot">
    <inertial>
      <origin
        xyz="0.0241549347415607 -1.38777878078145E-17 0.0493964918723007"
        rpy="0 0 0" />
      <mass
        value="0.712809875248307" />
      <inertia
        ixx="0.000425877652408794"
        ixy="-1.609489654618E-19"
        ixz="6.02911944625875E-06"
        iyy="0.00158617636175482"
        iyz="1.42167247423895E-20"
        izz="0.00193887163391243" />
    </inertial>
    <visual>
      <origin
        xyz="0 0 0"
        rpy="0 0 0" />
      <geometry>
        <mesh
          filename="package://HRO-c2-v1/meshes/right_foot.STL" />
      </geometry>
      <material
        name="">
        <color
          rgba="0 0.180392156862745 0.352941176470588 1" />
      </material>
    </visual>
    <collision>
      <origin
        xyz="0 0 0"
        rpy="0 0 0" />
      <geometry>
        <mesh
          filename="package://HRO-c2-v1/meshes/right_foot.STL" />
      </geometry>
    </collision>
  </link>
  <joint
    name="right_leg_joint_7"
    type="revolute">
    <origin
      xyz="8.89857532565355E-05 -0.114946778810142 -0.001"
      rpy="1.5707963267949 0 0" />
    <parent
      link="right_leg_link_6_7" />
    <child
      link="right_foot" />
    <axis
      xyz="0 0 1" />
    <limit
      lower="0"
      upper="0"
      effort="0"
      velocity="0" />
  </joint>
  <link
    name="left_leg_link_1_2">
    <inertial>
      <origin
        xyz="-0.0187737687333483 -0.0799753208695129 0.0291053393784099"
        rpy="0 0 0" />
      <mass
        value="1.91641217571983" />
      <inertia
        ixx="0.00536305220858552"
        ixy="-0.00152546998243291"
        ixz="1.56831294556847E-05"
        iyy="0.00241943278094351"
        iyz="-5.84573412750956E-05"
        izz="0.00592596030594808" />
    </inertial>
    <visual>
      <origin
        xyz="0 0 0"
        rpy="0 0 0" />
      <geometry>
        <mesh
          filename="package://HRO-c2-v1/meshes/left_leg_link_1_2.STL" />
      </geometry>
      <material
        name="">
        <color
          rgba="0 0.180392156862745 0.352941176470588 1" />
      </material>
    </visual>
    <collision>
      <origin
        xyz="0 0 0"
        rpy="0 0 0" />
      <geometry>
        <mesh
          filename="package://HRO-c2-v1/meshes/left_leg_link_1_2.STL" />
      </geometry>
    </collision>
  </link>
  <joint
    name="left_leg_joint_1"
    type="revolute">
    <origin
      xyz="-0.03 0.1 -0.05"
      rpy="1.5707963267949 0 1.5707963267949" />
    <parent
      link="torso_base_link" />
    <child
      link="left_leg_link_1_2" />
    <axis
      xyz="0 0 1" />
    <limit
      lower="0"
      upper="0"
      effort="0"
      velocity="0" />
  </joint>
  <link
    name="left_leg_link_2_3">
    <inertial>
      <origin
        xyz="-4.7896055792111E-05 0.079881456432898 0.00831301576050686"
        rpy="0 0 0" />
      <mass
        value="1.2765673429708" />
      <inertia
        ixx="0.00289462151649054"
        ixy="9.72698084278204E-07"
        ixz="-3.95472998528286E-07"
        iyy="0.00171043095688368"
        iyz="0.000477220208076753"
        izz="0.00274778464572006" />
    </inertial>
    <visual>
      <origin
        xyz="0 0 0"
        rpy="0 0 0" />
      <geometry>
        <mesh
          filename="package://HRO-c2-v1/meshes/left_leg_link_2_3.STL" />
      </geometry>
      <material
        name="">
        <color
          rgba="0.352941176470588 0.176470588235294 0 1" />
      </material>
    </visual>
    <collision>
      <origin
        xyz="0 0 0"
        rpy="0 0 0" />
      <geometry>
        <mesh
          filename="package://HRO-c2-v1/meshes/left_leg_link_2_3.STL" />
      </geometry>
    </collision>
  </link>
  <joint
    name="left_leg_joint_2"
    type="revolute">
    <origin
      xyz="0.001 -0.124082071757494 0.0300016717044909"
      rpy="3.14159265358979 -1.5707963267949 0" />
    <parent
      link="left_leg_link_1_2" />
    <child
      link="left_leg_link_2_3" />
    <axis
      xyz="0 0 1" />
    <limit
      lower="0"
      upper="0"
      effort="0"
      velocity="0" />
  </joint>
  <link
    name="left_leg_link_3_4">
    <inertial>
      <origin
        xyz="6.98911337971829E-05 0.0103211509348096 0.131072311142677"
        rpy="0 0 0" />
      <mass
        value="0.928188897548377" />
      <inertia
        ixx="0.00222228684330113"
        ixy="-3.10929884290934E-07"
        ixz="-1.19663366064781E-06"
        iyy="0.00217452039277163"
        iyz="-0.000376338758038212"
        izz="0.00124893833495017" />
    </inertial>
    <visual>
      <origin
        xyz="0 0 0"
        rpy="0 0 0" />
      <geometry>
        <mesh
          filename="package://HRO-c2-v1/meshes/left_leg_link_3_4.STL" />
      </geometry>
      <material
        name="">
        <color
          rgba="0 0.180392156862745 0.352941176470588 1" />
      </material>
    </visual>
    <collision>
      <origin
        xyz="0 0 0"
        rpy="0 0 0" />
      <geometry>
        <mesh
          filename="package://HRO-c2-v1/meshes/left_leg_link_3_4.STL" />
      </geometry>
    </collision>
  </link>
  <joint
    name="left_leg_joint_3"
    type="revolute">
    <origin
      xyz="-0.000101671704490934 0.175917928242506 -0.001"
      rpy="-1.5707963267949 0 0" />
    <parent
      link="left_leg_link_2_3" />
    <child
      link="left_leg_link_3_4" />
    <axis
      xyz="0 0 1" />
    <limit
      lower="0"
      upper="0"
      effort="0"
      velocity="0" />
  </joint>
  <link
    name="left_leg_link_4_5">
    <inertial>
      <origin
        xyz="-5.19728980263161E-05 0.0882835378669332 0.0237427888531114"
        rpy="0 0 0" />
      <mass
        value="0.774400761417378" />
      <inertia
        ixx="0.00215315446342486"
        ixy="8.73940873619505E-07"
        ixz="-3.97696557147387E-07"
        iyy="0.00102989996878608"
        iyz="0.000439833004698648"
        izz="0.00207720156075221" />
    </inertial>
    <visual>
      <origin
        xyz="0 0 0"
        rpy="0 0 0" />
      <geometry>
        <mesh
          filename="package://HRO-c2-v1/meshes/left_leg_link_4_5.STL" />
      </geometry>
      <material
        name="">
        <color
          rgba="0 0.180392156862745 0.352941176470588 1" />
      </material>
    </visual>
    <collision>
      <origin
        xyz="0 0 0"
        rpy="0 0 0" />
      <geometry>
        <mesh
          filename="package://HRO-c2-v1/meshes/left_leg_link_4_5.STL" />
      </geometry>
    </collision>
  </link>
  <joint
    name="left_leg_joint_4"
    type="revolute">
    <origin
      xyz="0.00010167170449067 0.00100000000000001 0.174082071757495"
      rpy="1.5707963267949 0 0" />
    <parent
      link="left_leg_link_3_4" />
    <child
      link="left_leg_link_4_5" />
    <axis
      xyz="0 0 1" />
    <limit
      lower="0"
      upper="0"
      effort="0"
      velocity="0" />
  </joint>
  <link
    name="left_leg_link_5_6">
    <inertial>
      <origin
        xyz="6.10693669287858E-05 0.0164428439695287 0.123012703864981"
        rpy="0 0 0" />
      <mass
        value="0.662392371788149" />
      <inertia
        ixx="0.00157330538844873"
        ixy="-2.42500581150457E-07"
        ixz="-3.08107599000823E-07"
        iyy="0.00156804432194181"
        iyz="-0.000287745052158881"
        izz="0.000745824849757476" />
    </inertial>
    <visual>
      <origin
        xyz="0 0 0"
        rpy="0 0 0" />
      <geometry>
        <mesh
          filename="package://HRO-c2-v1/meshes/left_leg_link_5_6.STL" />
      </geometry>
      <material
        name="">
        <color
          rgba="0 0.180392156862745 0.352941176470588 1" />
      </material>
    </visual>
    <collision>
      <origin
        xyz="0 0 0"
        rpy="0 0 0" />
      <geometry>
        <mesh
          filename="package://HRO-c2-v1/meshes/left_leg_link_5_6.STL" />
      </geometry>
    </collision>
  </link>
  <joint
    name="left_leg_joint_5"
    type="revolute">
    <origin
      xyz="-0.000101671704490709 0.175917928242505 -0.001"
      rpy="-1.5707963267949 0 0" />
    <parent
      link="left_leg_link_4_5" />
    <child
      link="left_leg_link_5_6" />
    <axis
      xyz="0 0 1" />
    <limit
      lower="0"
      upper="0"
      effort="0"
      velocity="0" />
  </joint>
  <link
    name="left_leg_link_6_7">
    <inertial>
      <origin
        xyz="-5.55440967287538E-05 0.0645895980066017 0.0130664227994462"
        rpy="0 0 0" />
      <mass
        value="0.60300944764139" />
      <inertia
        ixx="0.00089638314068938"
        ixy="4.10066188274902E-07"
        ixz="-1.93351371226564E-07"
        iyy="0.000641920961330898"
        iyz="0.000161415996999143"
        izz="0.000893939105049778" />
    </inertial>
    <visual>
      <origin
        xyz="0 0 0"
        rpy="0 0 0" />
      <geometry>
        <mesh
          filename="package://HRO-c2-v1/meshes/left_leg_link_6_7.STL" />
      </geometry>
      <material
        name="">
        <color
          rgba="0 0.180392156862745 0.352941176470588 1" />
      </material>
    </visual>
    <collision>
      <origin
        xyz="0 0 0"
        rpy="0 0 0" />
      <geometry>
        <mesh
          filename="package://HRO-c2-v1/meshes/left_leg_link_6_7.STL" />
      </geometry>
    </collision>
  </link>
  <joint
    name="left_leg_joint_6"
    type="revolute">
    <origin
      xyz="8.89857532565419E-05 0.00100000000000001 0.169053221189858"
      rpy="1.5707963267949 0 0" />
    <parent
      link="left_leg_link_5_6" />
    <child
      link="left_leg_link_6_7" />
    <axis
      xyz="0 0 1" />
    <limit
      lower="0"
      upper="0"
      effort="0"
      velocity="0" />
  </joint>
  <link
    name="left_foot">
    <inertial>
      <origin
        xyz="0.024154934741561 0 0.0493964918723007"
        rpy="0 0 0" />
      <mass
        value="0.712809875248304" />
      <inertia
        ixx="0.000425877652408792"
        ixy="-1.36144354303111E-19"
        ixz="6.02911944625945E-06"
        iyy="0.00158617636175481"
        iyz="6.5514154345866E-21"
        izz="0.00193887163391242" />
    </inertial>
    <visual>
      <origin
        xyz="0 0 0"
        rpy="0 0 0" />
      <geometry>
        <mesh
          filename="package://HRO-c2-v1/meshes/left_foot.STL" />
      </geometry>
      <material
        name="">
        <color
          rgba="0 0.180392156862745 0.352941176470588 1" />
      </material>
    </visual>
    <collision>
      <origin
        xyz="0 0 0"
        rpy="0 0 0" />
      <geometry>
        <mesh
          filename="package://HRO-c2-v1/meshes/left_foot.STL" />
      </geometry>
    </collision>
  </link>
  <joint
    name="left_leg_joint_7"
    type="revolute">
    <origin
      xyz="-8.89857532565216E-05 0.114946778810142 -0.001"
      rpy="-1.5707963267949 0 0" />
    <parent
      link="left_leg_link_6_7" />
    <child
      link="left_foot" />
    <axis
      xyz="0 0 1" />
    <limit
      lower="0"
      upper="0"
      effort="0"
      velocity="0" />
  </joint>
</robot>
